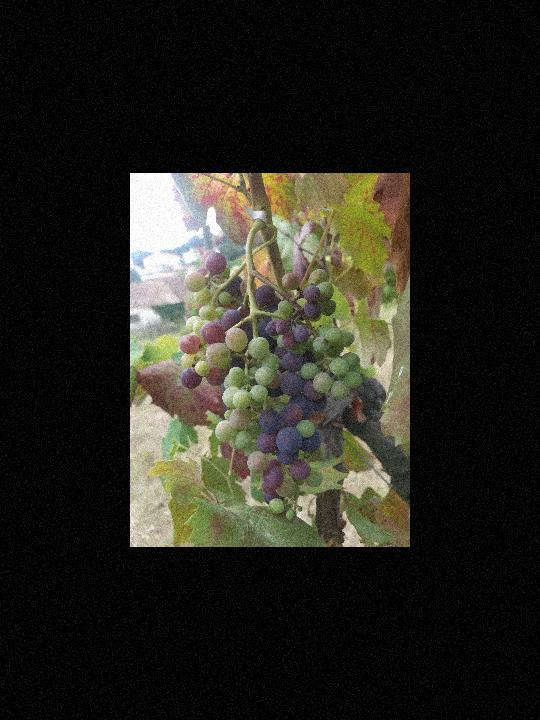grape: (178, 247, 366, 523)
